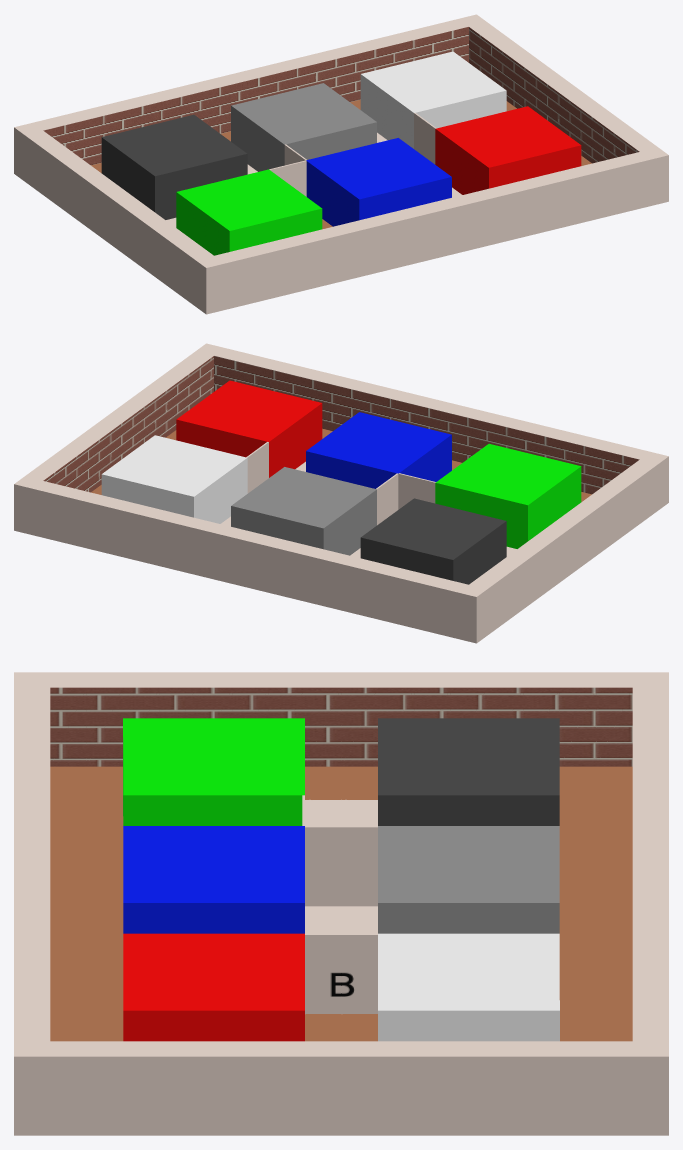
Rendered from maze_test7.dae.
3 views of the same model, one above another, from view 1: azimuth 30°, elevation 25°; view 2: azimuth 150°, elevation 25°; view 3: azimuth 270°, elevation 25° (orthographic). The views are drawn at different scales.
Parts seen in each view (by area): view 1: Plane; view 2: Plane; view 3: Plane.
Boxes of the visible parts, x1,y1,x2,y2 form: Plane: [14, 14, 668, 314]; Plane: [14, 343, 668, 643]; Plane: [14, 672, 668, 1135].
Size of the model in its own units: 15.63 by 11.25 by 1.5.
1 material, 1 textured.
